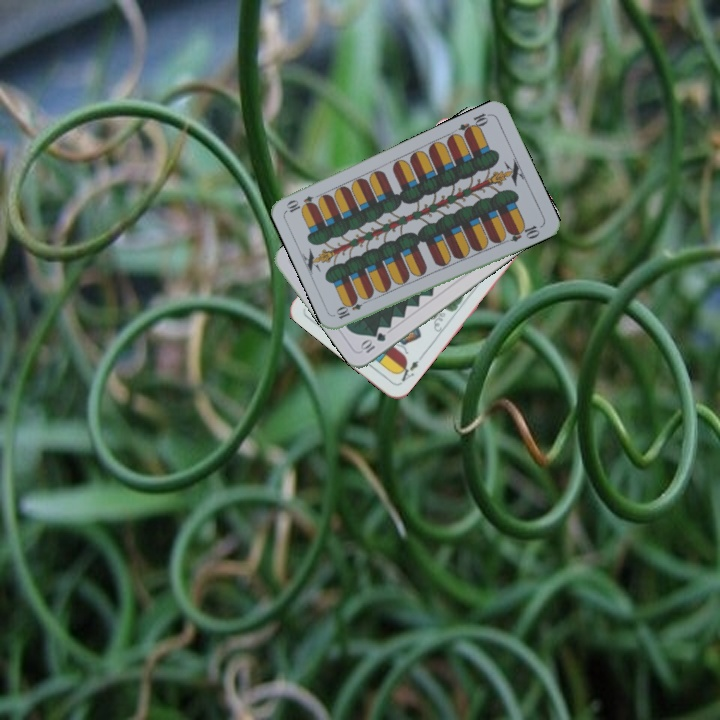E10: (455, 109, 493, 138), (332, 295, 371, 322)
EA: (393, 356, 421, 387)
G10: (357, 328, 388, 356)
